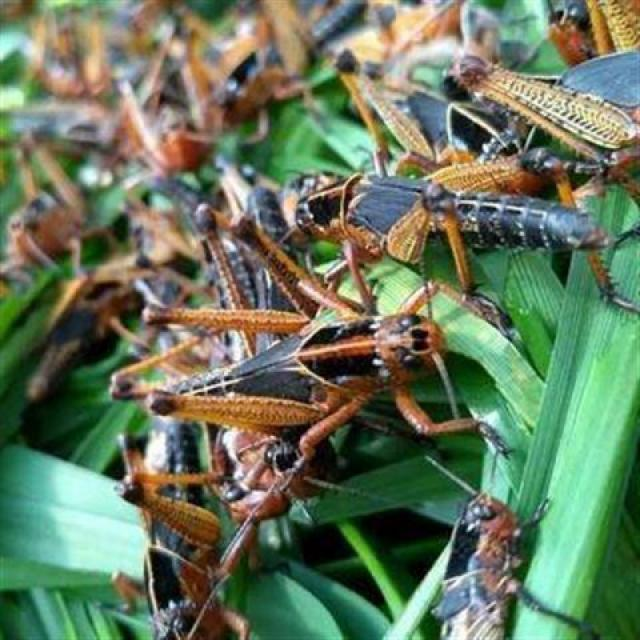ZhaMeng: (113, 297, 456, 440), (279, 158, 615, 299), (419, 44, 639, 166), (419, 482, 555, 638)
